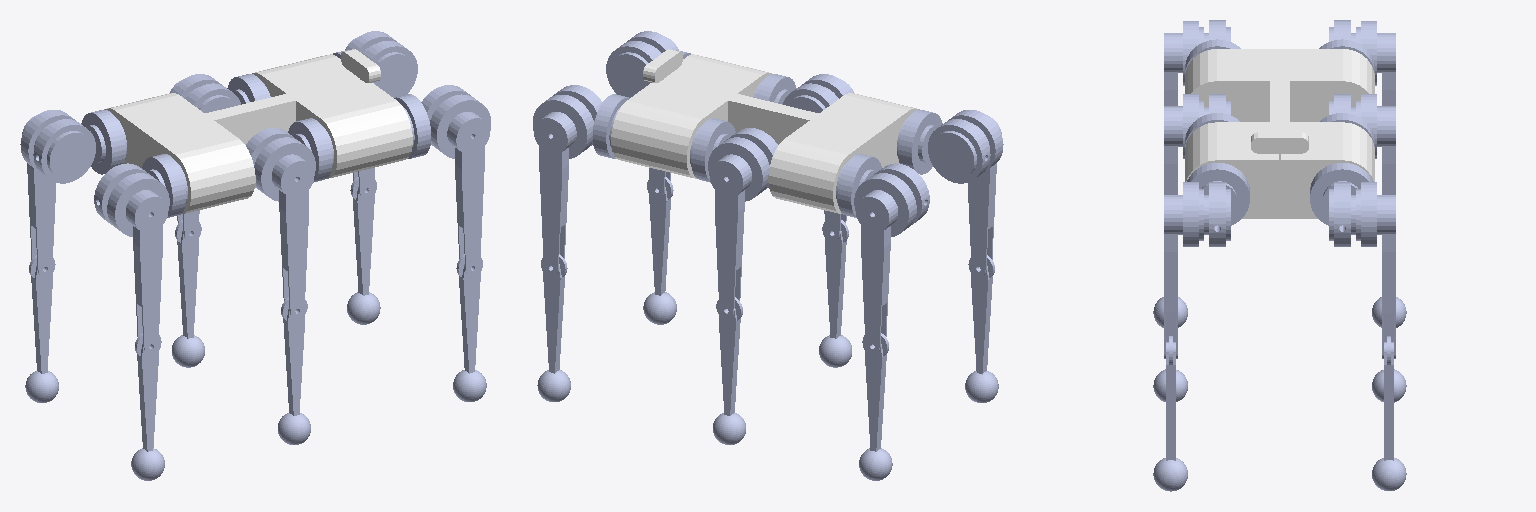
--- Render facts (derived) ---
Views: 3 orthographic renders of the robot side by side, from view 1: azimuth 30°, elevation 25°; view 2: azimuth 150°, elevation 25°; view 3: azimuth 270°, elevation 25°.
Robot: sixlegdog — 19 links, 18 joints (18 continuous); root link base_link; default pose: all joints at 0.
Visible links, largest first — view 1: base_link, rbl18, rml10, rfl2, lbl22, lfl6, rbl19, lfl7, rfl3, lml15, lbl23, rml11 (+6 smaller); view 2: base_link, lbl22, lml14, lfl6, rbl18, rfl2, lbl23, rfl3, rml11, lfl7, rbl19, lml15 (+6 smaller); view 3: base_link, lfl6, rfl2, rml10, lml14, rbl18, lbl22, rfl3, lfl7, rfl1, lfl5, rml11 (+1 smaller).
Boxes of the visible links, x1,y1,x2,y2 form: base_link: (105, 49, 412, 213); rbl18: (94, 163, 169, 353); rml10: (246, 128, 315, 318); rfl2: (421, 85, 490, 275); lbl22: (20, 110, 95, 276); lfl6: (345, 31, 417, 197); rbl19: (131, 333, 164, 480); lfl7: (347, 177, 380, 324); rfl3: (453, 254, 486, 401); lml15: (172, 220, 204, 367); lbl23: (25, 255, 58, 402); rml11: (278, 297, 310, 444); base_link: (611, 49, 918, 213); lbl22: (854, 163, 929, 353); lml14: (708, 128, 777, 318); lfl6: (533, 85, 602, 275); rbl18: (928, 110, 1003, 276); rfl2: (606, 31, 678, 197); lbl23: (859, 333, 892, 480); rfl3: (643, 177, 676, 324); rml11: (819, 220, 851, 367); lfl7: (537, 254, 570, 401); rbl19: (965, 255, 998, 402); lml15: (713, 297, 745, 444); base_link: (1185, 49, 1374, 218); lfl6: (1329, 182, 1395, 358); rfl2: (1164, 182, 1230, 358); rml10: (1164, 94, 1230, 194); lml14: (1329, 94, 1395, 194); rbl18: (1164, 20, 1230, 105); lbl22: (1329, 20, 1395, 105); rfl3: (1153, 336, 1187, 491); lfl7: (1372, 336, 1406, 490); rfl1: (1187, 163, 1249, 225); lfl5: (1310, 163, 1372, 225); rml11: (1153, 312, 1187, 401).
Bounding box of the posed robot: 0.645 × 0.3644 × 0.519 m (x, y, z).
19 mesh visuals loaded from 19 distinct referenced files (19 binary STL).

URDF robot description (sixlegdog):
<?xml version="1.0" encoding="utf-8"?>
<!-- This URDF was automatically created by SolidWorks to URDF Exporter! Originally created by Stephen Brawner ([email redacted]) 
     Commit Version: 1.6.0-4-g7f85cfe  Build Version: 1.6.7995.38578
     For more information, please see http://wiki.ros.org/sw_urdf_exporter -->
<robot
  name="sixlegdog">
  <link
    name="base_link">
    <inertial>
      <origin
        xyz="0.0155117897181914 2.42861286636753E-17 0.000458340027840073"
        rpy="0 0 0" />
      <mass
        value="16" />
      <inertia
        ixx="1"
        ixy="0"
        ixz="0"
        iyy="1"
        iyz="0"
        izz="1" />
    </inertial>
    <visual>
      <origin
        xyz="0 0 0"
        rpy="0 0 0" />
      <geometry>
        <mesh
          filename="package://sixlegdog/meshes/base_link.STL" />
      </geometry>
      <material
        name="">
        <color
          rgba="1 1 1 1" />
      </material>
    </visual>
    <collision>
      <origin
        xyz="0 0 0"
        rpy="0 0 0" />
      <geometry>
        <mesh
          filename="package://sixlegdog/meshes/base_link.STL" />
      </geometry>
    </collision>
  </link>
  <link
    name="rfl1">
    <inertial>
      <origin
        xyz="-0.00131447196887721 0 -4.33680868994202E-19"
        rpy="0 0 0" />
      <mass
        value="0.1" />
      <inertia
        ixx="0.1"
        ixy="0"
        ixz="0"
        iyy="0.1"
        iyz="0"
        izz="0.1" />
    </inertial>
    <visual>
      <origin
        xyz="0 0 0"
        rpy="0 0 0" />
      <geometry>
        <mesh
          filename="package://sixlegdog/meshes/rfl1.STL" />
      </geometry>
      <material
        name="">
        <color
          rgba="0.792156862745098 0.819607843137255 0.933333333333333 1" />
      </material>
    </visual>
    <collision>
      <origin
        xyz="0 0 0"
        rpy="0 0 0" />
      <geometry>
        <mesh
          filename="package://sixlegdog/meshes/rfl1.STL" />
      </geometry>
    </collision>
  </link>
  <joint
    name="rfj1"
    type="continuous">
    <origin
      xyz="0.21939 -0.09 0"
      rpy="0 0 0" />
    <parent
      link="base_link" />
    <child
      link="rfl1" />
    <axis
      xyz="1 0 0" />
                <limit
      lower="-6"
      upper="6"
      effort="100"
      velocity="10" />
                 <dynamics
      damping="0.1"
       friction="0.01"
    />
  </joint>
  <link
    name="rfl2">
    <inertial>
      <origin
        xyz="-6.53211652337782E-07 0.0322176779917884 -0.00392709303280481"
        rpy="0 0 0" />
      <mass
        value="0.1" />
      <inertia
        ixx="0.1"
        ixy="0"
        ixz="0"
        iyy="0.1"
        iyz="0"
        izz="0.1" />
    </inertial>
    <visual>
      <origin
        xyz="0 0 0"
        rpy="0 0 0" />
      <geometry>
        <mesh
          filename="package://sixlegdog/meshes/rfl2.STL" />
      </geometry>
      <material
        name="">
        <color
          rgba="0.792156862745098 0.819607843137255 0.933333333333333 1" />
      </material>
    </visual>
    <collision>
      <origin
        xyz="0 0 0"
        rpy="0 0 0" />
      <geometry>
        <mesh
          filename="package://sixlegdog/meshes/rfl2.STL" />
      </geometry>
    </collision>
  </link>
  <joint
    name="rfj2"
    type="continuous">
    <origin
      xyz="0.06575 -0.0385 0"
      rpy="0 0 0" />
    <parent
      link="rfl1" />
    <child
      link="rfl2" />
    <axis
      xyz="0 1 0" />
                <limit
      lower="-6"
      upper="6"
      effort="100"
      velocity="10" />
                 <dynamics
      damping="0.1"
       friction="0.01"
    />
  </joint>
  <link
    name="rfl3">
    <inertial>
      <origin
        xyz="-1.38777878078145E-17 -2.77555756156289E-17 -0.134485646148589"
        rpy="0 0 0" />
      <mass
        value="0.1" />
      <inertia
        ixx="0.1"
        ixy="0"
        ixz="0"
        iyy="0.1"
        iyz="0"
        izz="0.1" />
    </inertial>
    <visual>
      <origin
        xyz="0 0 0"
        rpy="0 0 0" />
      <geometry>
        <mesh
          filename="package://sixlegdog/meshes/rfl3.STL" />
      </geometry>
      <material
        name="">
        <color
          rgba="0.792156862745098 0.819607843137255 0.933333333333333 1" />
      </material>
    </visual>
    <collision>
      <origin
        xyz="0 0 0"
        rpy="0 0 0" />
      <geometry>
        <mesh
          filename="package://sixlegdog/meshes/rfl3.STL" />
      </geometry>
    </collision>
  </link>
  <joint
    name="rfj3"
    type="continuous">
    <origin
      xyz="0 -0.02875 -0.216"
      rpy="0 0 0" />
    <parent
      link="rfl2" />
    <child
      link="rfl3" />
    <axis
      xyz="0 -1 0" />
                <limit
      lower="-6"
      upper="6"
      effort="100"
      velocity="10" />
                 <dynamics
      damping="0.1"
       friction="0.01"
    />
  </joint>
  <link
    name="lfl5">
    <inertial>
      <origin
        xyz="-0.00131447196887721 0 8.67361737988404E-19"
        rpy="0 0 0" />
      <mass
        value="0.1" />
      <inertia
        ixx="0.1"
        ixy="0"
        ixz="0"
        iyy="0.1"
        iyz="0"
        izz="0.1" />
    </inertial>
    <visual>
      <origin
        xyz="0 0 0"
        rpy="0 0 0" />
      <geometry>
        <mesh
          filename="package://sixlegdog/meshes/lfl5.STL" />
      </geometry>
      <material
        name="">
        <color
          rgba="0.792156862745098 0.819607843137255 0.933333333333333 1" />
      </material>
    </visual>
    <collision>
      <origin
        xyz="0 0 0"
        rpy="0 0 0" />
      <geometry>
        <mesh
          filename="package://sixlegdog/meshes/lfl5.STL" />
      </geometry>
    </collision>
  </link>
  <joint
    name="lfj5"
    type="continuous">
    <origin
      xyz="0.21939 0.09 0"
      rpy="0 0 0" />
    <parent
      link="base_link" />
    <child
      link="lfl5" />
    <axis
      xyz="1 0 0" />
                <limit
      lower="-6"
      upper="6"
      effort="100"
      velocity="10" />
                 <dynamics
      damping="0.1"
       friction="0.01"
    />
  </joint>
  <link
    name="lfl6">
    <inertial>
      <origin
        xyz="6.54397969868104E-07 -0.0322176779917884 -0.00392709813580003"
        rpy="0 0 0" />
      <mass
        value="0.1" />
      <inertia
        ixx="0.1"
        ixy="0"
        ixz="0"
        iyy="0.1"
        iyz="0"
        izz="0.1" />
    </inertial>
    <visual>
      <origin
        xyz="0 0 0"
        rpy="0 0 0" />
      <geometry>
        <mesh
          filename="package://sixlegdog/meshes/lfl6.STL" />
      </geometry>
      <material
        name="">
        <color
          rgba="0.792156862745098 0.819607843137255 0.933333333333333 1" />
      </material>
    </visual>
    <collision>
      <origin
        xyz="0 0 0"
        rpy="0 0 0" />
      <geometry>
        <mesh
          filename="package://sixlegdog/meshes/lfl6.STL" />
      </geometry>
    </collision>
  </link>
  <joint
    name="lfj6"
    type="continuous">
    <origin
      xyz="0.06575 0.0385 0"
      rpy="0 0 0" />
    <parent
      link="lfl5" />
    <child
      link="lfl6" />
    <axis
      xyz="0 -1 0" />
                <limit
      lower="-6"
      upper="6"
      effort="100"
      velocity="10" />
                 <dynamics
      damping="0.1"
       friction="0.01"
    />
  </joint>
  <link
    name="lfl7">
    <inertial>
      <origin
        xyz="-0.000152488307947535 -3.2612801348364E-14 -0.134485559698129"
        rpy="0 0 0" />
      <mass
        value="0.1" />
      <inertia
        ixx="0.1"
        ixy="0"
        ixz="0"
        iyy="0.1"
        iyz="0"
        izz="0.1" />
    </inertial>
    <visual>
      <origin
        xyz="0 0 0"
        rpy="0 0 0" />
      <geometry>
        <mesh
          filename="package://sixlegdog/meshes/lfl7.STL" />
      </geometry>
      <material
        name="">
        <color
          rgba="0.792156862745098 0.819607843137255 0.933333333333333 1" />
      </material>
    </visual>
    <collision>
      <origin
        xyz="0 0 0"
        rpy="0 0 0" />
      <geometry>
        <mesh
          filename="package://sixlegdog/meshes/lfl7.STL" />
      </geometry>
    </collision>
  </link>
  <joint
    name="lfj7"
    type="continuous">
    <origin
      xyz="0 0.02875 -0.216"
      rpy="0 0 0" />
    <parent
      link="lfl6" />
    <child
      link="lfl7" />
    <axis
      xyz="0 1 0" />
                <limit
      lower="-6"
      upper="6"
      effort="100"
      velocity="10" />
                 <dynamics
      damping="0.1"
       friction="0.01"
    />
  </joint>
  <link
    name="rml9">
    <inertial>
      <origin
        xyz="0.00131447196887718 0 1.73472347597681E-18"
        rpy="0 0 0" />
      <mass
        value="0.1" />
      <inertia
        ixx="0.1"
        ixy="0"
        ixz="0"
        iyy="0.1"
        iyz="0"
        izz="0.1" />
    </inertial>
    <visual>
      <origin
        xyz="0 0 0"
        rpy="0 0 0" />
      <geometry>
        <mesh
          filename="package://sixlegdog/meshes/rml9.STL" />
      </geometry>
      <material
        name="">
        <color
          rgba="0.792156862745098 0.819607843137255 0.933333333333333 1" />
      </material>
    </visual>
    <collision>
      <origin
        xyz="0 0 0"
        rpy="0 0 0" />
      <geometry>
        <mesh
          filename="package://sixlegdog/meshes/rml9.STL" />
      </geometry>
    </collision>
  </link>
  <joint
    name="rmj9"
    type="continuous">
    <origin
      xyz="0.05025 -0.09 0"
      rpy="0 0 0" />
    <parent
      link="base_link" />
    <child
      link="rml9" />
    <axis
      xyz="-1 0 0" />
                <limit
      lower="-6"
      upper="6"
      effort="100"
      velocity="10" />
                 <dynamics
      damping="0.1"
       friction="0.01"
    />
  </joint>
  <link
    name="rml10">
    <inertial>
      <origin
        xyz="-6.54397968535836E-07 0.0322176779917887 -0.00392709813580057"
        rpy="0 0 0" />
      <mass
        value="0.1" />
      <inertia
        ixx="0.1"
        ixy="0"
        ixz="0"
        iyy="0.1"
        iyz="0"
        izz="0.1" />
    </inertial>
    <visual>
      <origin
        xyz="0 0 0"
        rpy="0 0 0" />
      <geometry>
        <mesh
          filename="package://sixlegdog/meshes/rml10.STL" />
      </geometry>
      <material
        name="">
        <color
          rgba="0.792156862745098 0.819607843137255 0.933333333333333 1" />
      </material>
    </visual>
    <collision>
      <origin
        xyz="0 0 0"
        rpy="0 0 0" />
      <geometry>
        <mesh
          filename="package://sixlegdog/meshes/rml10.STL" />
      </geometry>
    </collision>
  </link>
  <joint
    name="rmj10"
    type="continuous">
    <origin
      xyz="-0.06575 -0.0385 0"
      rpy="0 0 0" />
    <parent
      link="rml9" />
    <child
      link="rml10" />
    <axis
      xyz="0 1 0" />
                <limit
      lower="-6"
      upper="6"
      effort="100"
      velocity="10" />
                 <dynamics
      damping="0.1"
       friction="0.01"
    />
  </joint>
  <link
    name="rml11">
    <inertial>
      <origin
        xyz="-5.55111512312578E-17 0 -0.134485646148589"
        rpy="0 0 0" />
      <mass
        value="0.1" />
      <inertia
        ixx="0.1"
        ixy="0"
        ixz="0"
        iyy="0.1"
        iyz="0"
        izz="0.1" />
    </inertial>
    <visual>
      <origin
        xyz="0 0 0"
        rpy="0 0 0" />
      <geometry>
        <mesh
          filename="package://sixlegdog/meshes/rml11.STL" />
      </geometry>
      <material
        name="">
        <color
          rgba="0.792156862745098 0.819607843137255 0.933333333333333 1" />
      </material>
    </visual>
    <collision>
      <origin
        xyz="0 0 0"
        rpy="0 0 0" />
      <geometry>
        <mesh
          filename="package://sixlegdog/meshes/rml11.STL" />
      </geometry>
    </collision>
  </link>
  <joint
    name="rmj11"
    type="continuous">
    <origin
      xyz="0 -0.02875 -0.216"
      rpy="0 0 0" />
    <parent
      link="rml10" />
    <child
      link="rml11" />
    <axis
      xyz="0 -1 0" />
                <limit
      lower="-6"
      upper="6"
      effort="100"
      velocity="10" />
                 <dynamics
      damping="0.1"
       friction="0.01"
    />
  </joint>
  <link
    name="lml13">
    <inertial>
      <origin
        xyz="0.00131447196887718 0 -2.16840434497101E-18"
        rpy="0 0 0" />
      <mass
        value="0.1" />
      <inertia
        ixx="0.1"
        ixy="0"
        ixz="0"
        iyy="0.1"
        iyz="0"
        izz="0.1" />
    </inertial>
    <visual>
      <origin
        xyz="0 0 0"
        rpy="0 0 0" />
      <geometry>
        <mesh
          filename="package://sixlegdog/meshes/lml13.STL" />
      </geometry>
      <material
        name="">
        <color
          rgba="0.792156862745098 0.819607843137255 0.933333333333333 1" />
      </material>
    </visual>
    <collision>
      <origin
        xyz="0 0 0"
        rpy="0 0 0" />
      <geometry>
        <mesh
          filename="package://sixlegdog/meshes/lml13.STL" />
      </geometry>
    </collision>
  </link>
  <joint
    name="lmj13"
    type="continuous">
    <origin
      xyz="0.05025 0.09 0"
      rpy="0 0 0" />
    <parent
      link="base_link" />
    <child
      link="lml13" />
    <axis
      xyz="-1 0 0" />
                <limit
      lower="-6"
      upper="6"
      effort="100"
      velocity="10" />
                 <dynamics
      damping="0.1"
       friction="0.01"
    />
  </joint>
  <link
    name="lml14">
    <inertial>
      <origin
        xyz="6.53211653378616E-07 -0.0322176779917884 -0.00392709303280481"
        rpy="0 0 0" />
      <mass
        value="0.1" />
      <inertia
        ixx="0.1"
        ixy="0"
        ixz="0"
        iyy="0.1"
        iyz="0"
        izz="0.1" />
    </inertial>
    <visual>
      <origin
        xyz="0 0 0"
        rpy="0 0 0" />
      <geometry>
        <mesh
          filename="package://sixlegdog/meshes/lml14.STL" />
      </geometry>
      <material
        name="">
        <color
          rgba="0.792156862745098 0.819607843137255 0.933333333333333 1" />
      </material>
    </visual>
    <collision>
      <origin
        xyz="0 0 0"
        rpy="0 0 0" />
      <geometry>
        <mesh
          filename="package://sixlegdog/meshes/lml14.STL" />
      </geometry>
    </collision>
  </link>
  <joint
    name="lmj14"
    type="continuous">
    <origin
      xyz="-0.06575 0.0385 0"
      rpy="0 0 0" />
    <parent
      link="lml13" />
    <child
      link="lml14" />
    <axis
      xyz="0 -1 0" />
                <limit
      lower="-6"
      upper="6"
      effort="100"
      velocity="10" />
                 <dynamics
      damping="0.1"
       friction="0.01"
    />
  </joint>
  <link
    name="lml15">
    <inertial>
      <origin
        xyz="0.000111828846872997 2.38975506050565E-14 -0.13448559965406"
        rpy="0 0 0" />
      <mass
        value="0.1" />
      <inertia
        ixx="0.1"
        ixy="0"
        ixz="0"
        iyy="0.1"
        iyz="0"
        izz="0.1" />
    </inertial>
    <visual>
      <origin
        xyz="0 0 0"
        rpy="0 0 0" />
      <geometry>
        <mesh
          filename="package://sixlegdog/meshes/lml15.STL" />
      </geometry>
      <material
        name="">
        <color
          rgba="0.792156862745098 0.819607843137255 0.933333333333333 1" />
      </material>
    </visual>
    <collision>
      <origin
        xyz="0 0 0"
        rpy="0 0 0" />
      <geometry>
        <mesh
          filename="package://sixlegdog/meshes/lml15.STL" />
      </geometry>
    </collision>
  </link>
  <joint
    name="lmj15"
    type="continuous">
    <origin
      xyz="0 0.02875 -0.216"
      rpy="0 0 0" />
    <parent
      link="lml14" />
    <child
      link="lml15" />
    <axis
      xyz="0 1 0" />
                <limit
      lower="-6"
      upper="6"
      effort="100"
      velocity="10" />
                 <dynamics
      damping="0.1"
       friction="0.01"
    />
  </joint>
  <link
    name="rbl17">
    <inertial>
      <origin
        xyz="0.00131447196887724 0 8.67361737988404E-19"
        rpy="0 0 0" />
      <mass
        value="0.1" />
      <inertia
        ixx="0.1"
        ixy="0"
        ixz="0"
        iyy="0.1"
        iyz="0"
        izz="0.1" />
    </inertial>
    <visual>
      <origin
        xyz="0 0 0"
        rpy="0 0 0" />
      <geometry>
        <mesh
          filename="package://sixlegdog/meshes/rbl17.STL" />
      </geometry>
      <material
        name="">
        <color
          rgba="0.792156862745098 0.819607843137255 0.933333333333333 1" />
      </material>
    </visual>
    <collision>
      <origin
        xyz="0 0 0"
        rpy="0 0 0" />
      <geometry>
        <mesh
          filename="package://sixlegdog/meshes/rbl17.STL" />
      </geometry>
    </collision>
  </link>
  <joint
    name="rbj17"
    type="continuous">
    <origin
      xyz="-0.20011 -0.09 0"
      rpy="0 0 0" />
    <parent
      link="base_link" />
    <child
      link="rbl17" />
    <axis
      xyz="-1 0 0" />
                <limit
      lower="-6"
      upper="6"
      effort="100"
      velocity="10" />
                 <dynamics
      damping="0.1"
       friction="0.01"
    />
  </joint>
  <link
    name="rbl18">
    <inertial>
      <origin
        xyz="-6.5439796970157E-07 0.0322176779917884 -0.0039270981358"
        rpy="0 0 0" />
      <mass
        value="0.1" />
      <inertia
        ixx="0.1"
        ixy="0"
        ixz="0"
        iyy="0.1"
        iyz="0"
        izz="0.1" />
    </inertial>
    <visual>
      <origin
        xyz="0 0 0"
        rpy="0 0 0" />
      <geometry>
        <mesh
          filename="package://sixlegdog/meshes/rbl18.STL" />
      </geometry>
      <material
        name="">
        <color
          rgba="0.792156862745098 0.819607843137255 0.933333333333333 1" />
      </material>
    </visual>
    <collision>
      <origin
        xyz="0 0 0"
        rpy="0 0 0" />
      <geometry>
        <mesh
          filename="package://sixlegdog/meshes/rbl18.STL" />
      </geometry>
    </collision>
  </link>
  <joint
    name="rbj18"
    type="continuous">
    <origin
      xyz="-0.06575 -0.0385 0"
      rpy="0 0 0" />
    <parent
      link="rbl17" />
    <child
      link="rbl18" />
    <axis
      xyz="0 1 0" />
                <limit
      lower="-6"
      upper="6"
      effort="100"
      velocity="10" />
                 <dynamics
      damping="0.1"
       friction="0.01"
    />
  </joint>
  <link
    name="rbl19">
    <inertial>
      <origin
        xyz="-4.46883304429102E-05 -9.52016243616072E-15 -0.13448563872383"
        rpy="0 0 0" />
      <mass
        value="0.1" />
      <inertia
        ixx="0.1"
        ixy="0"
        ixz="0"
        iyy="0.1"
        iyz="0"
        izz="0.1" />
    </inertial>
    <visual>
      <origin
        xyz="0 0 0"
        rpy="0 0 0" />
      <geometry>
        <mesh
          filename="package://sixlegdog/meshes/rbl19.STL" />
      </geometry>
      <material
        name="">
        <color
          rgba="0.792156862745098 0.819607843137255 0.933333333333333 1" />
      </material>
    </visual>
    <collision>
      <origin
        xyz="0 0 0"
        rpy="0 0 0" />
      <geometry>
        <mesh
          filename="package://sixlegdog/meshes/rbl19.STL" />
      </geometry>
    </collision>
  </link>
  <joint
    name="rbj19"
    type="continuous">
    <origin
      xyz="0 -0.02875 -0.216"
      rpy="0 0 0" />
    <parent
      link="rbl18" />
    <child
      link="rbl19" />
    <axis
      xyz="0 -1 0" />
                <limit
      lower="-6"
      upper="6"
      effort="100"
      velocity="10" />
                 <dynamics
      damping="0.1"
       friction="0.01"
    />
  </joint>
  <link
    name="lbl21">
    <inertial>
      <origin
        xyz="0.00131447196887724 0 -8.67361737988404E-19"
        rpy="0 0 0" />
      <mass
        value="0.1" />
      <inertia
        ixx="0.1"
        ixy="0"
        ixz="0"
        iyy="0.1"
        iyz="0"
        izz="0.1" />
    </inertial>
    <visual>
      <origin
        xyz="0 0 0"
        rpy="0 0 0" />
      <geometry>
        <mesh
          filename="package://sixlegdog/meshes/lbl21.STL" />
      </geometry>
      <material
        name="">
        <color
          rgba="0.792156862745098 0.819607843137255 0.933333333333333 1" />
      </material>
    </visual>
    <collision>
      <origin
        xyz="0 0 0"
        rpy="0 0 0" />
      <geometry>
        <mesh
          filename="package://sixlegdog/meshes/lbl21.STL" />
      </geometry>
    </collision>
  </link>
  <joint
    name="lbj21"
    type="continuous">
    <origin
      xyz="-0.20011 0.09 0"
      rpy="0 0 0" />
    <parent
      link="base_link" />
    <child
      link="lbl21" />
    <axis
      xyz="-1 0 0" />
                <limit
      lower="-6"
      upper="6"
      effort="100"
      velocity="10" />
                 <dynamics
      damping="0.1"
       friction="0.01"
    />
  </joint>
  <link
    name="lbl22">
    <inertial>
      <origin
        xyz="6.53211653656172E-07 -0.0322176779917884 -0.00392709303280478"
        rpy="0 0 0" />
      <mass
        value="0.1" />
      <inertia
        ixx="0.1"
        ixy="0"
        ixz="0"
        iyy="0.1"
        iyz="0"
        izz="0.1" />
    </inertial>
    <visual>
      <origin
        xyz="0 0 0"
        rpy="0 0 0" />
      <geometry>
        <mesh
          filename="package://sixlegdog/meshes/lbl22.STL" />
      </geometry>
      <material
        name="">
        <color
          rgba="0.792156862745098 0.819607843137255 0.933333333333333 1" />
      </material>
    </visual>
    <collision>
      <origin
        xyz="0 0 0"
        rpy="0 0 0" />
      <geometry>
        <mesh
          filename="package://sixlegdog/meshes/lbl22.STL" />
      </geometry>
    </collision>
  </link>
  <joint
    name="lbj22"
    type="continuous">
    <origin
      xyz="-0.06575 0.0385 0"
      rpy="0 0 0" />
    <parent
      link="lbl21" />
    <child
      link="lbl22" />
    <axis
      xyz="0 -1 0" />
                <limit
      lower="-6"
      upper="6"
      effort="100"
      velocity="10" />
                 <dynamics
      damping="0.1"
       friction="0.01"
    />
  </joint>
  <link
    name="lbl23">
    <inertial>
      <origin
        xyz="0.000111828846872997 2.39253061806721E-14 -0.13448559965406"
        rpy="0 0 0" />
      <mass
        value="0.1" />
      <inertia
        ixx="0.1"
        ixy="0"
        ixz="0"
        iyy="0.1"
        iyz="0"
        izz="0.1" />
    </inertial>
    <visual>
      <origin
        xyz="0 0 0"
        rpy="0 0 0" />
      <geometry>
        <mesh
          filename="package://sixlegdog/meshes/lbl23.STL" />
      </geometry>
      <material
        name="">
        <color
          rgba="0.792156862745098 0.819607843137255 0.933333333333333 1" />
      </material>
    </visual>
    <collision>
      <origin
        xyz="0 0 0"
        rpy="0 0 0" />
      <geometry>
        <mesh
          filename="package://sixlegdog/meshes/lbl23.STL" />
      </geometry>
    </collision>
  </link>
  <joint
    name="lbj23"
    type="continuous">
    <origin
      xyz="0 0.02875 -0.216"
      rpy="0 0 0" />
    <parent
      link="lbl22" />
    <child
      link="lbl23" />
    <axis
      xyz="0 1 0" />
                <limit
      lower="-6"
      upper="6"
      effort="100"
      velocity="10" />
                 <dynamics
      damping="0.1"
       friction="0.01"
    />
  </joint>

<transmission name="trans_lfj5">
        <type>transmission_interface/SimpleTransmission</type>
        <joint name="lfj5">
            <hardwareInterface>hardware_interface/EffortJointInterface</hardwareInterface>
        </joint>
        <actuator name="lfj5_motor">
            <hardwareInterface>hardware_interface/EffortJointInterface</hardwareInterface>
            <mechanicalReduction>1</mechanicalReduction>
        </actuator>
    </transmission>

<transmission name="trans_lfj6">
        <type>transmission_interface/SimpleTransmission</type>
        <joint name="lfj6">
            <hardwareInterface>hardware_interface/EffortJointInterface</hardwareInterface>
        </joint>
        <actuator name="lfj6_motor">
            <hardwareInterface>hardware_interface/EffortJointInterface</hardwareInterface>
            <mechanicalReduction>1</mechanicalReduction>
        </actuator>
    </transmission>

<transmission name="trans_lfj7">
        <type>transmission_interface/SimpleTransmission</type>
        <joint name="lfj7">
            <hardwareInterface>hardware_interface/EffortJointInterface</hardwareInterface>
        </joint>
        <actuator name="lfj7_motor">
            <hardwareInterface>hardware_interface/EffortJointInterface</hardwareInterface>
            <mechanicalReduction>1</mechanicalReduction>
        </actuator>
    </transmission>

<transmission name="trans_rfj1">
        <type>transmission_interface/SimpleTransmission</type>
        <joint name="rfj1">
            <hardwareInterface>hardware_interface/EffortJointInterface</hardwareInterface>
        </joint>
        <actuator name="rfj1_motor">
            <hardwareInterface>hardware_interface/EffortJointInterface</hardwareInterface>
            <mechanicalReduction>1</mechanicalReduction>
        </actuator>
    </transmission>

<transmission name="trans_rfj2">
        <type>transmission_interface/SimpleTransmission</type>
        <joint name="rfj2">
            <hardwareInterface>hardware_interface/EffortJointInterface</hardwareInterface>
        </joint>
        <actuator name="rfj2_motor">
            <hardwareInterface>hardware_interface/EffortJointInterface</hardwareInterface>
            <mechanicalReduction>1</mechanicalReduction>
        </actuator>
    </transmission>

<transmission name="trans_rfj3">
        <type>transmission_interface/SimpleTransmission</type>
        <joint name="rfj3">
            <hardwareInterface>hardware_interface/EffortJointInterface</hardwareInterface>
        </joint>
        <actuator name="rfj3_motor">
            <hardwareInterface>hardware_interface/EffortJointInterface</hardwareInterface>
            <mechanicalReduction>1</mechanicalReduction>
        </actuator>
    </transmission>

<transmission name="trans_rmj9">
        <type>transmission_interface/SimpleTransmission</type>
        <joint name="rmj9">
            <hardwareInterface>hardware_interface/EffortJointInterface</hardwareInterface>
        </joint>
        <actuator name="rmj9_motor">
            <hardwareInterface>hardware_interface/EffortJointInterface</hardwareInterface>
            <mechanicalReduction>1</mechanicalReduction>
        </actuator>
    </transmission>

<transmission name="trans_rmj10">
        <type>transmission_interface/SimpleTransmission</type>
        <joint name="rmj10">
            <hardwareInterface>hardware_interface/EffortJointInterface</hardwareInterface>
        </joint>
        <actuator name="rmj10_motor">
            <hardwareInterface>hardware_interface/EffortJointInterface</hardwareInterface>
            <mechanicalReduction>1</mechanicalReduction>
        </actuator>
    </transmission>

<transmission name="trans_rmj11">
        <type>transmission_interface/SimpleTransmission</type>
        <joint name="rmj11">
            <hardwareInterface>hardware_interface/EffortJointInterface</hardwareInterface>
        </joint>
        <actuator name="rmj11_motor">
            <hardwareInterface>hardware_interface/EffortJointInterface</hardwareInterface>
            <mechanicalReduction>1</mechanicalReduction>
        </actuator>
    </transmission>

<transmission name="trans_lmj13">
        <type>transmission_interface/SimpleTransmission</type>
        <joint name="lmj13">
            <hardwareInterface>hardware_interface/EffortJointInterface</hardwareInterface>
        </joint>
        <actuator name="lmj13_motor">
            <hardwareInterface>hardware_interface/EffortJointInterface</hardwareInterface>
            <mechanicalReduction>1</mechanicalReduction>
        </actuator>
    </transmission>

<transmission name="trans_lmj14">
        <type>transmission_interface/SimpleTransmission</type>
        <joint name="lmj14">
            <hardwareInterface>hardware_interface/EffortJointInterface</hardwareInterface>
        </joint>
        <actuator name="lmj14_motor">
            <hardwareInterface>hardware_interface/EffortJointInterface</hardwareInterface>
            <mechanicalReduction>1</mechanicalReduction>
        </actuator>
    </transmission>

<transmission name="trans_lmj15">
        <type>transmission_interface/SimpleTransmission</type>
        <joint name="lmj15">
            <hardwareInterface>hardware_interface/EffortJointInterface</hardwareInterface>
        </joint>
        <actuator name="lmj15_motor">
            <hardwareInterface>hardware_interface/EffortJointInterface</hardwareInterface>
            <mechanicalReduction>1</mechanicalReduction>
        </actuator>
    </transmission>

<transmission name="trans_rbj17">
        <type>transmission_interface/SimpleTransmission</type>
        <joint name="rbj17">
            <hardwareInterface>hardware_interface/EffortJointInterface</hardwareInterface>
        </joint>
        <actuator name="rbj17_motor">
            <hardwareInterface>hardware_interface/EffortJointInterface</hardwareInterface>
            <mechanicalReduction>1</mechanicalReduction>
        </actuator>
    </transmission>

<transmission name="trans_rbj18">
        <type>transmission_interface/SimpleTransmission</type>
        <joint name="rbj18">
            <hardwareInterface>hardware_interface/EffortJointInterface</hardwareInterface>
        </joint>
        <actuator name="rbj18_motor">
            <hardwareInterface>hardware_interface/EffortJointInterface</hardwareInterface>
            <mechanicalReduction>1</mechanicalReduction>
        </actuator>
    </transmission>

<transmission name="trans_rbj19">
        <type>transmission_interface/SimpleTransmission</type>
        <joint name="rbj19">
            <hardwareInterface>hardware_interface/EffortJointInterface</hardwareInterface>
        </joint>
        <actuator name="rbj19_motor">
            <hardwareInterface>hardware_interface/EffortJointInterface</hardwareInterface>
            <mechanicalReduction>1</mechanicalReduction>
        </actuator>
    </transmission>

<transmission name="trans_lbj21">
        <type>transmission_interface/SimpleTransmission</type>
        <joint name="lbj21">
            <hardwareInterface>hardware_interface/EffortJointInterface</hardwareInterface>
        </joint>
        <actuator name="lbj21_motor">
            <hardwareInterface>hardware_interface/EffortJointInterface</hardwareInterface>
            <mechanicalReduction>1</mechanicalReduction>
        </actuator>
    </transmission>

<transmission name="trans_lbj22">
        <type>transmission_interface/SimpleTransmission</type>
        <joint name="lbj22">
            <hardwareInterface>hardware_interface/EffortJointInterface</hardwareInterface>
        </joint>
        <actuator name="lbj22_motor">
            <hardwareInterface>hardware_interface/EffortJointInterface</hardwareInterface>
            <mechanicalReduction>1</mechanicalReduction>
        </actuator>
    </transmission>

<transmission name="trans_lbj23">
        <type>transmission_interface/SimpleTransmission</type>
        <joint name="lbj23">
            <hardwareInterface>hardware_interface/EffortJointInterface</hardwareInterface>
        </joint>
        <actuator name="lbj23_motor">
            <hardwareInterface>hardware_interface/EffortJointInterface</hardwareInterface>
            <mechanicalReduction>1</mechanicalReduction>
        </actuator>
    </transmission>

  <gazebo>
    <plugin name="imu_plugin" filename="libgazebo_ros_imu.so">
  	  <alwaysOn>true</alwaysOn>
    	<bodyName>base_link</bodyName>
    	<topicName>imu</topicName>
    	<serviceName>imu_service</serviceName>
    	<gaussianNoise>0.0</gaussianNoise>
      <xyzOffset>0 0 0</xyzOffset>
      <rpyOffset>0 0 0</rpyOffset>
      <frameName>base_link</frameName>
    	<updateRate>1000.0</updateRate>
    </plugin>

    <plugin name="POS_COM" filename="libgazebo_ros_p3d.so">
      <alwaysOn>true</alwaysOn>
      <updateRate>1000.0</updateRate>
      <bodyName>base_link</bodyName>
      <topicName>POS_COM</topicName>
      <gaussianNoise>0.0</gaussianNoise>
      <frameName>map</frameName>
      <xyzOffsets>0 0 0</xyzOffsets>
      <rpyOffsets>0 0 0</rpyOffsets>
    </plugin>
  </gazebo>

  <!-- fix the model  -->
  <!-- <link name="world"/>
  <joint name="fix" type="fixed">
  <origin xyz="0 0 0.5" rpy="0 0 0"/>
  <parent link="world"/>
  <child link="base_link"/> 
  </joint> -->

  <gazebo>
        <plugin name="gazebo_ros_control" filename="libgazebo_ros_control.so">
            <robotNamespace>/sixlegdog</robotNamespace>
            <robotSimType>gazebo_ros_control/DefaultRobotHWSim</robotSimType>
        </plugin>
  </gazebo>

</robot>
